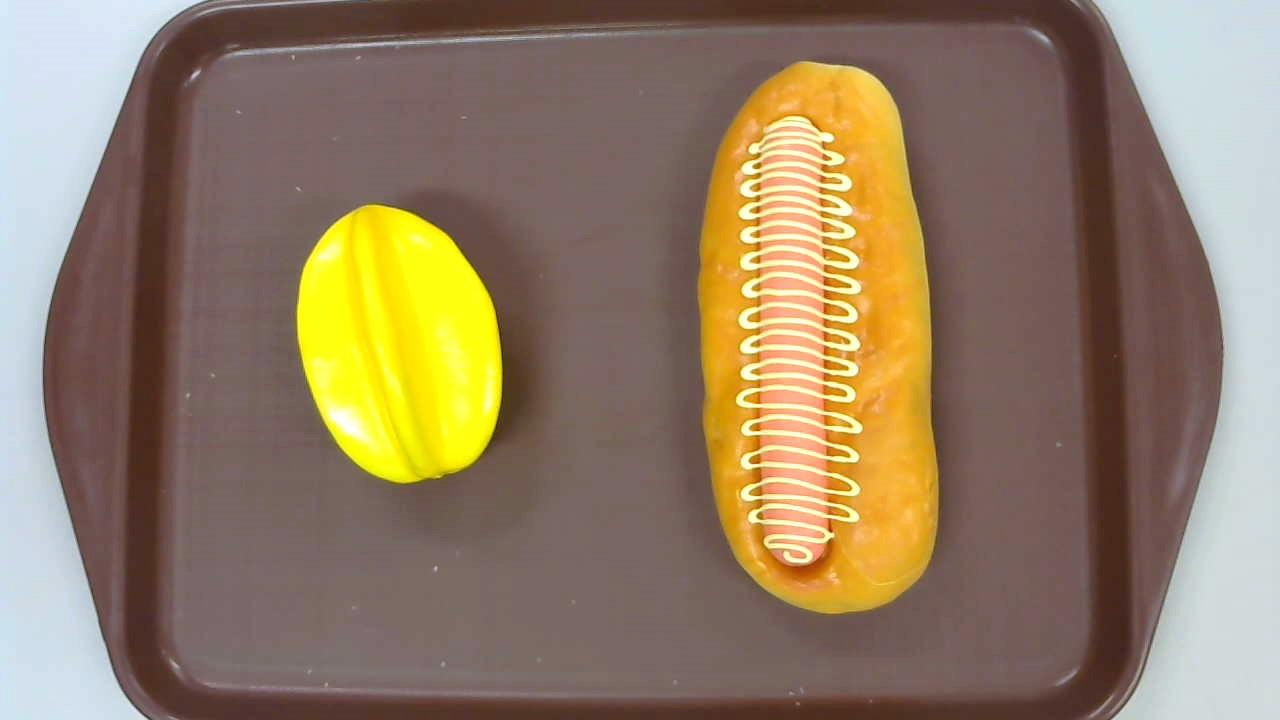hot dog: (697, 60, 941, 614)
star fruit: (296, 203, 503, 488)
